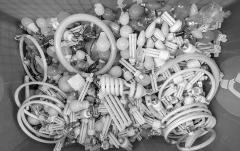lightbulb: (14, 0, 229, 151), (96, 32, 110, 52), (68, 100, 90, 112)
